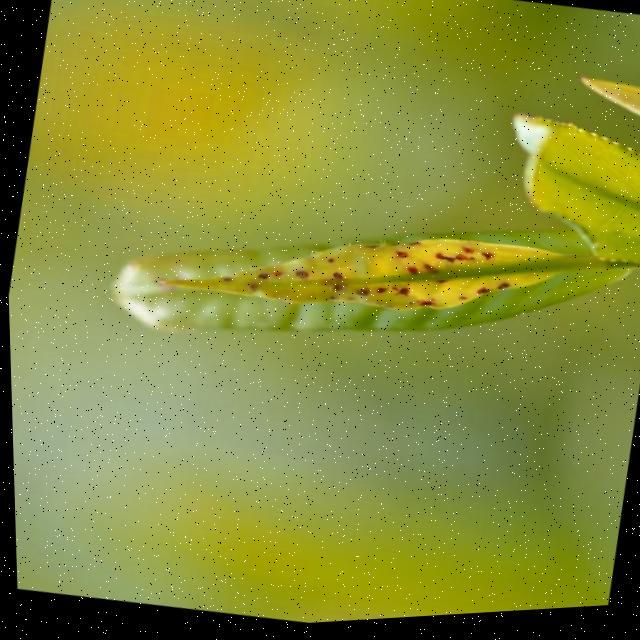Tea red scab: (154, 182, 506, 348)
